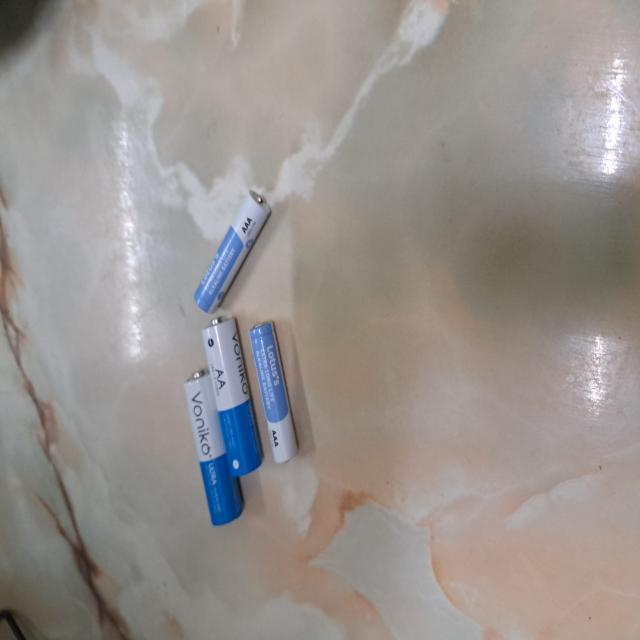battery: (193, 189, 273, 314), (202, 314, 262, 478), (184, 370, 246, 528), (248, 321, 300, 463)
